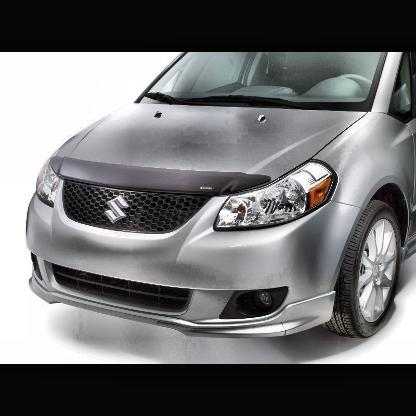Suzuki SX4 Sedan 2012: (25, 52, 416, 342)
